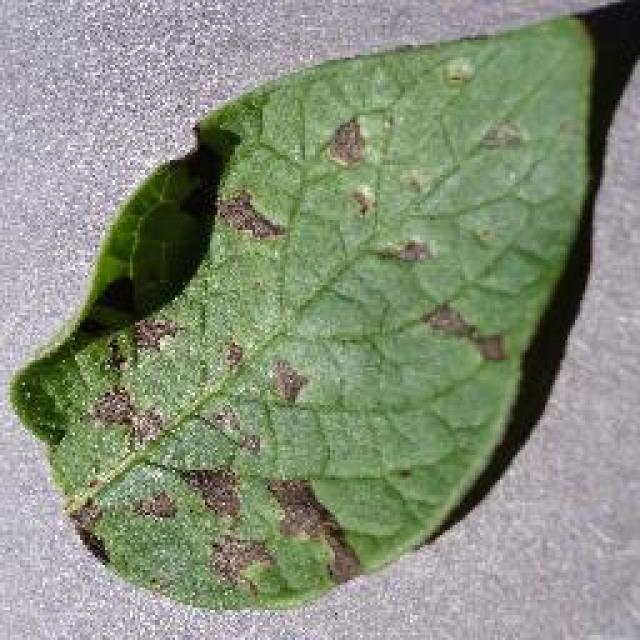early_blight: (5, 3, 603, 615)
